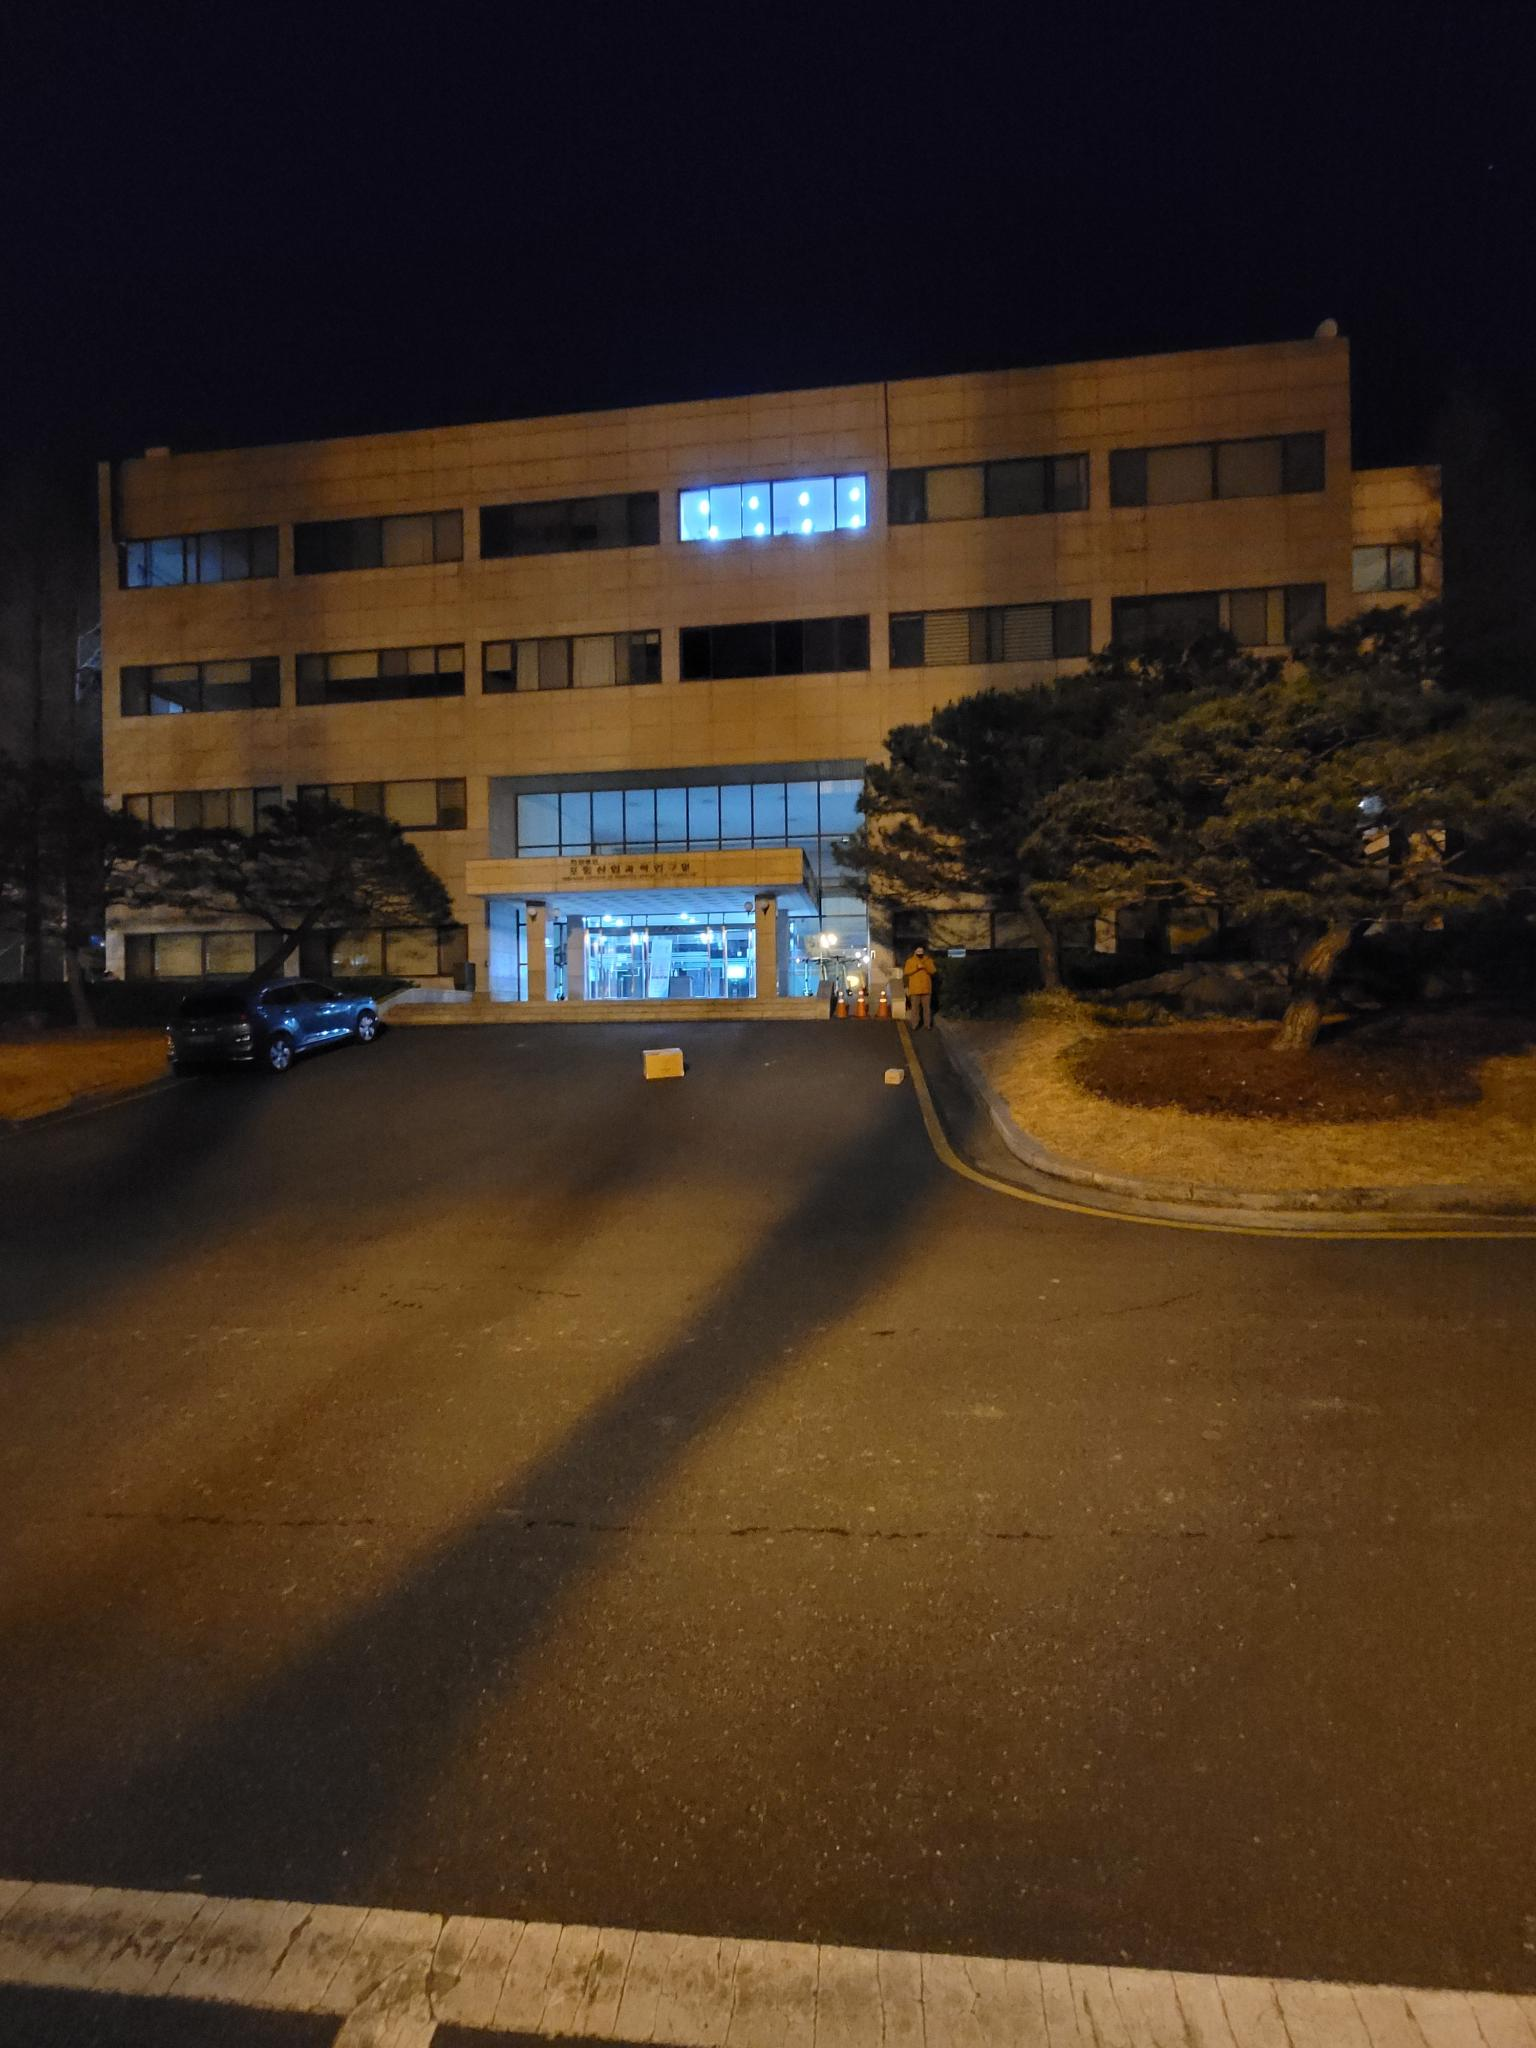Box: (634, 1040, 686, 1082), (881, 1063, 900, 1085)
